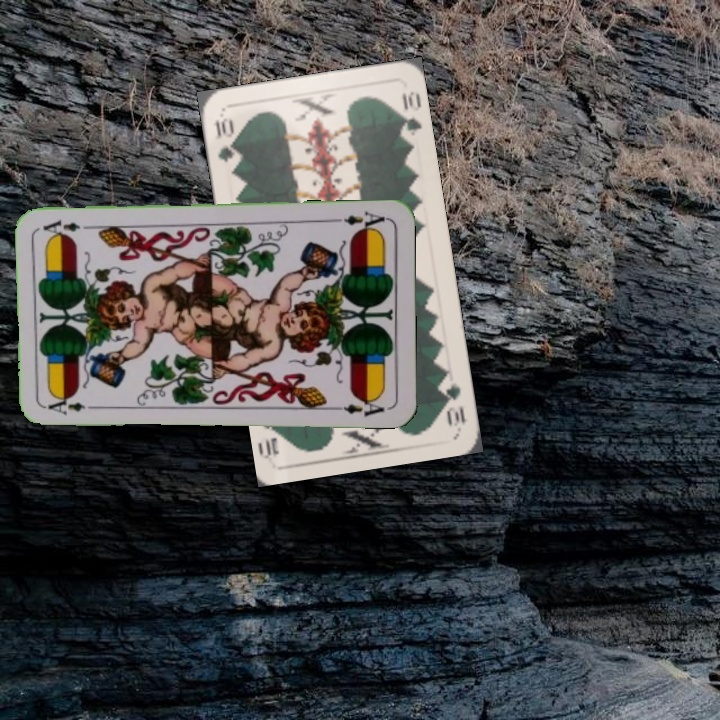EA: (329, 207, 388, 234), (41, 396, 88, 418)
G10: (437, 371, 468, 429), (211, 114, 240, 165)
